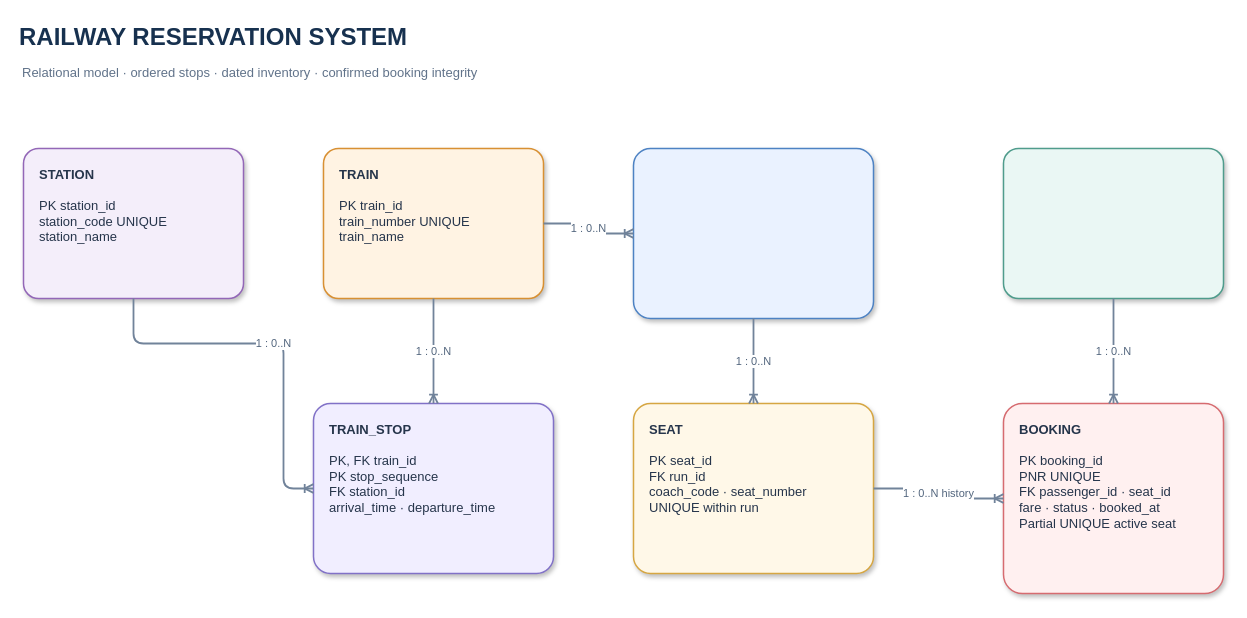
Image size: 1247x618. Some labels were removed from this diagram. The shapes that lost their labels are listed below. From the top down, each one's centre as x and y in pixels, then its label:
the point at 754,234: TRAIN_RUN PK run_id FK train_id service_date UNIQUE (train_id, date)
the point at 1114,224: PASSENGER PK passenger_id full_name email UNIQUE
